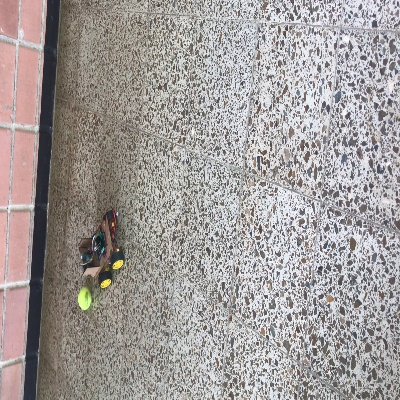Ball: (77, 287, 91, 309)
Robot: (77, 209, 123, 288)
